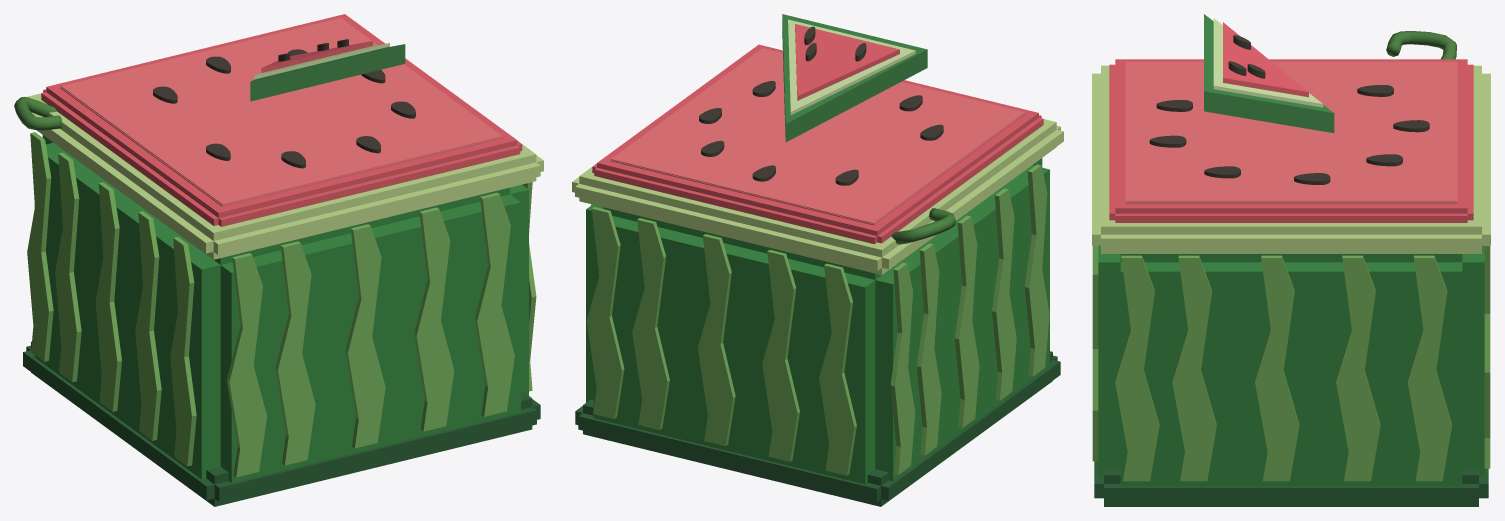
File: crate_melancia.fbx
The picture shows the model from 3 angles, left to right: view 1: azimuth 30°, elevation 25°; view 2: azimuth 150°, elevation 25°; view 3: azimuth 270°, elevation 25°; orthographic projection. The views are drawn at different scales.
Parts seen in each view (by area): view 1: crate_melancia_caixa; view 2: crate_melancia_caixa; view 3: crate_melancia_caixa.
Boxes of the visible parts, box(x1,y1,x2,y2) form: crate_melancia_caixa: box(14, 14, 543, 506); crate_melancia_caixa: box(572, 14, 1063, 506); crate_melancia_caixa: box(1092, 14, 1490, 506).
Size of the model in its own units: 2.75 by 2.67 by 2.51.
Materials: 1 (1 with a texture image).
